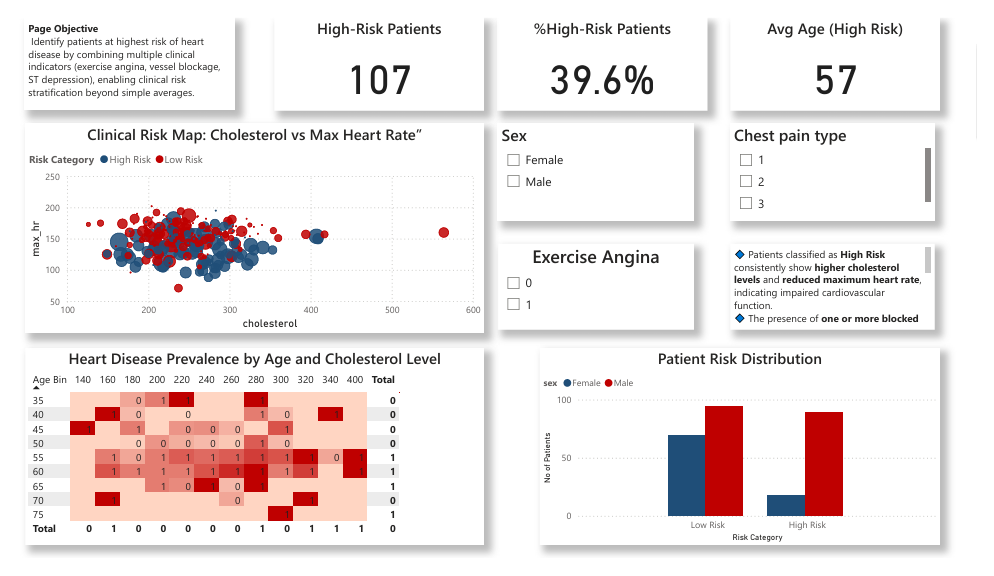

The dashboard page shown, as its layout file describes it:
{"tool":"powerbi","page":{"name":"High-Risk Patient Analysis","canvas":[1280,720],"ordinal":3},"visuals":[{"type":"textbox","box":[10.1,0,280.5,124.3],"z":0},{"type":"card","title":"High-Risk Patients","fields":{"Values":["Heart_Disease_Prediction_Cleaned.High Risk Patients"]},"box":[342.7,0,280.5,124.3],"z":1000},{"type":"card","title":"%High-Risk Patients","fields":{"Values":["Heart_Disease_Prediction_Cleaned.% High Risk"]},"box":[640,0,280.5,124.3],"z":2000},{"type":"card","title":"Avg Age (High Risk)","fields":{"Values":["Heart_Disease_Prediction_Cleaned.Avg Age (High Risk)"]},"box":[950.8,0,280.5,124.3],"z":3000},{"type":"scatterChart","title":"Clinical Risk Map: Cholesterol vs Max Heart Rate”","fields":{"X":["Heart_Disease_Prediction_Cleaned.cholesterol"],"Y":["Heart_Disease_Prediction_Cleaned.max_hr"],"Series":["Heart_Disease_Prediction_Cleaned.Risk Category"],"Size":["Avg(Heart_Disease_Prediction_Cleaned.st_depression)"]},"box":[10.6,140.9,612.7,279.9],"z":4000},{"type":"pivotTable","title":"Heart Disease Prevalence by Age and Cholesterol Level","fields":{"Rows":["Heart_Disease_Prediction_Cleaned.Age Bin"],"Columns":["Heart_Disease_Prediction_Cleaned.cholesterol (bins)"],"Values":["Heart_Disease_Prediction_Cleaned.% Heart Disease"]},"box":[10.6,440.2,612.7,262.3],"z":5000},{"type":"clusteredColumnChart","title":"Patient Risk Distribution","fields":{"Category":["Heart_Disease_Prediction_Cleaned.Risk Category"],"Y":["CountNonNull(Heart_Disease_Prediction_Cleaned.age)"],"Series":["Heart_Disease_Prediction_Cleaned.sex"]},"box":[697.2,440.2,533.5,262.3],"z":6000},{"type":"slicer","title":"Sex","fields":{"Values":["Heart_Disease_Prediction_Cleaned.sex"]},"box":[640.9,140.9,262.3,130.3],"z":7000},{"type":"slicer","title":"Chest pain type","fields":{"Values":["Heart_Disease_Prediction_Cleaned.chest_pain_type"]},"box":[950.8,140.9,272.9,130.3],"z":8000},{"type":"slicer","title":"Exercise Angina","fields":{"Values":["Heart_Disease_Prediction_Cleaned.exercise_angina"]},"box":[640.9,301.1,262.3,114.4],"z":9000},{"type":"textbox","box":[950.8,301.1,272.9,114.4],"z":10000}]}

Visuals, with their boxes in screenshot pixels (x1, y1, x2, y2), scaled from the page's 1280x720 canvas onto the 994x576 screenshot:
textbox: rect(8, 0, 226, 99)
"High-Risk Patients" card: rect(266, 0, 484, 99)
"%High-Risk Patients" card: rect(497, 0, 715, 99)
"Avg Age (High Risk)" card: rect(738, 0, 956, 99)
"Clinical Risk Map: Cholesterol vs Max Heart Rate”" scatterChart: rect(8, 113, 484, 337)
"Heart Disease Prevalence by Age and Cholesterol Level" pivotTable: rect(8, 352, 484, 562)
"Patient Risk Distribution" clusteredColumnChart: rect(541, 352, 956, 562)
"Sex" slicer: rect(498, 113, 701, 217)
"Chest pain type" slicer: rect(738, 113, 950, 217)
"Exercise Angina" slicer: rect(498, 241, 701, 332)
textbox: rect(738, 241, 950, 332)
